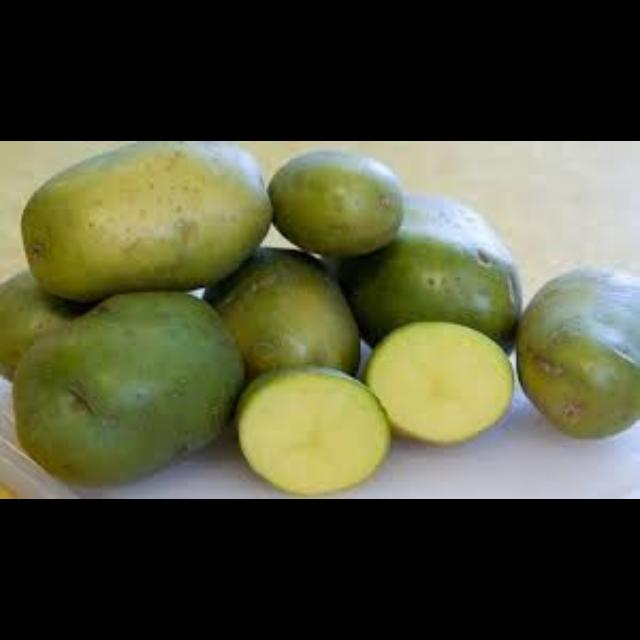Defected potato: (11, 279, 237, 489), (19, 141, 273, 301), (316, 178, 530, 360), (205, 228, 378, 404), (512, 262, 640, 438), (260, 147, 410, 263)
